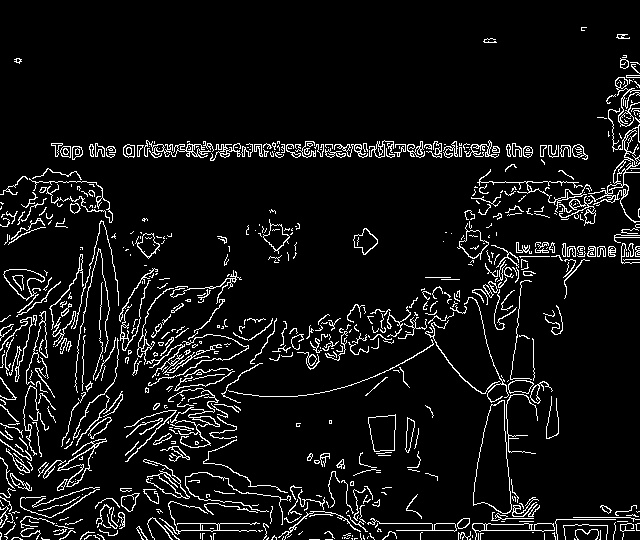down: (453, 222, 494, 267), (256, 217, 297, 257), (133, 227, 170, 266)
right: (344, 220, 385, 263)
